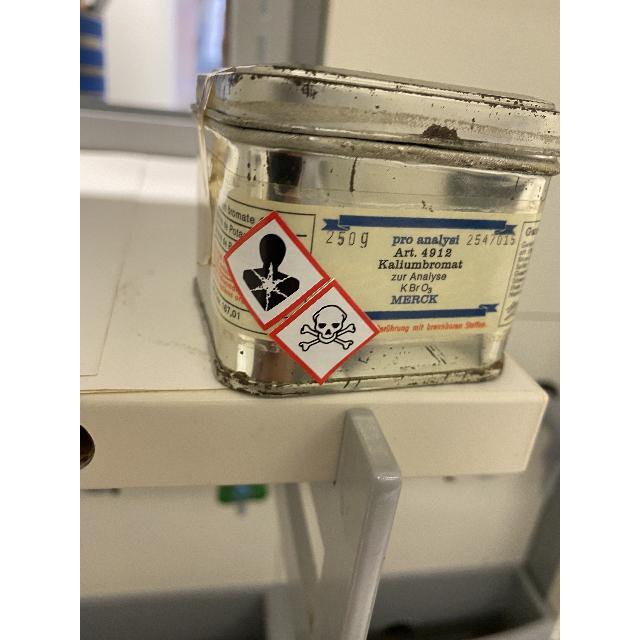acute toxicity: (298, 304, 358, 354)
serious health hazard: (242, 234, 300, 312)
